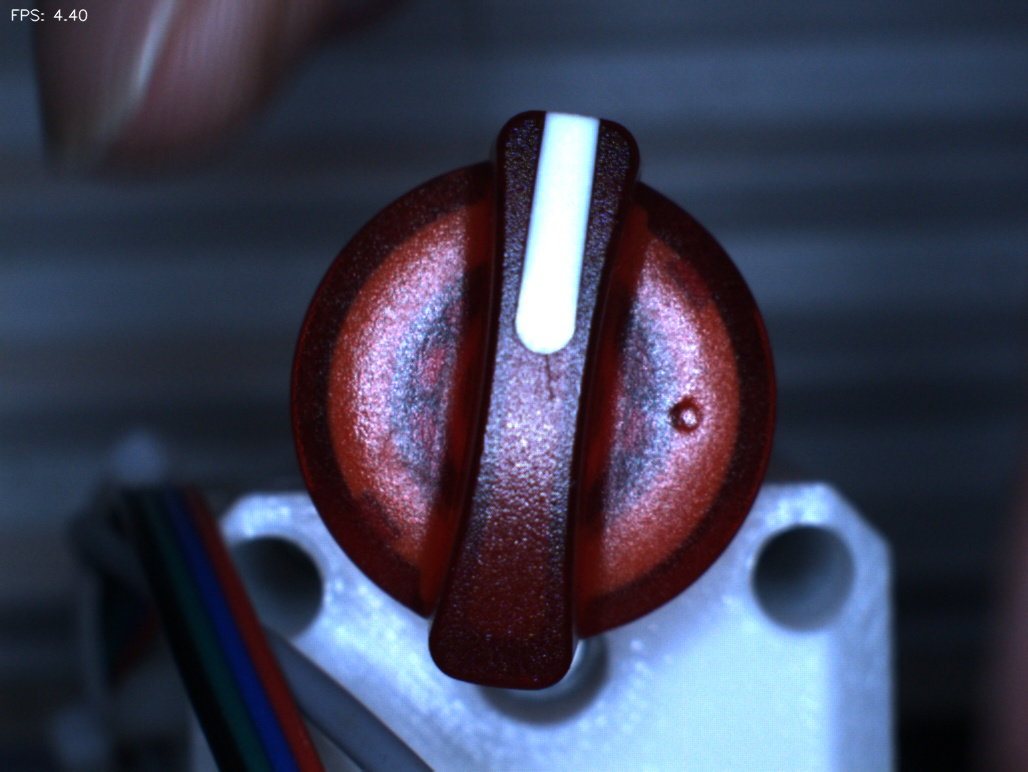Choc: (647, 372, 727, 452)
